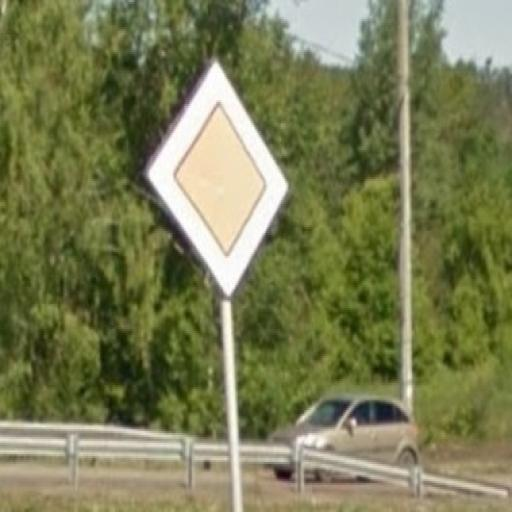traffic_sign: (144, 59, 293, 299)
